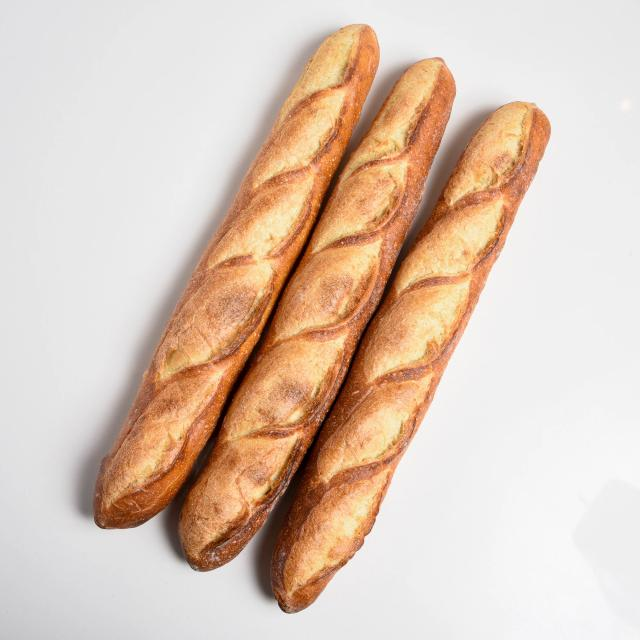Baguette: (94, 25, 379, 528), (271, 102, 549, 612), (180, 60, 454, 571)
